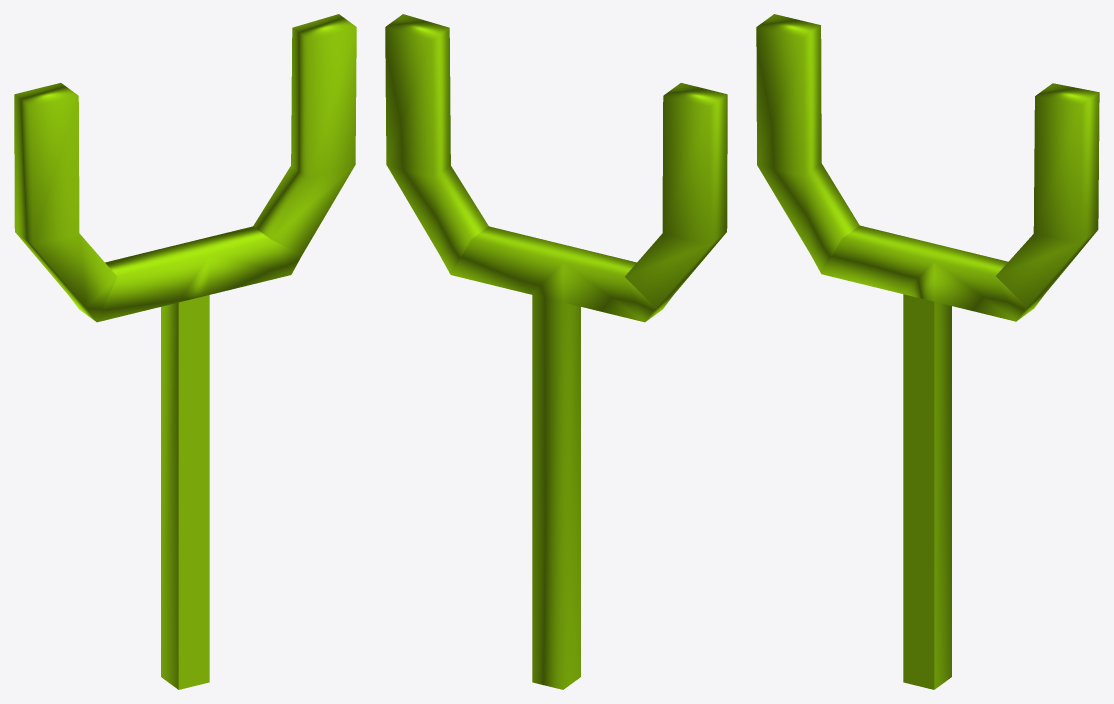
The model's file is Slingshot.fbx.
3 renders of one model, left to right at view 1: azimuth 30°, elevation 25°; view 2: azimuth 150°, elevation 25°; view 3: azimuth 330°, elevation 25°, orthographic.
Parts seen in each view (by area): view 1: Slingshot; view 2: Slingshot; view 3: Slingshot.
Boxes of the visible parts, bbox=[...] form: Slingshot: bbox=[14, 14, 356, 689]; Slingshot: bbox=[385, 14, 727, 689]; Slingshot: bbox=[756, 14, 1099, 689].
Size of the model in its own units: 10.52 by 19.18 by 1.
